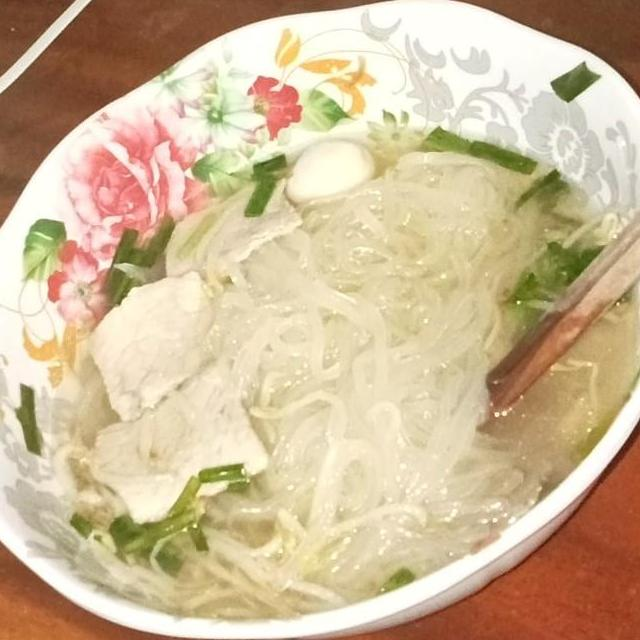banh hu tieu: (221, 150, 539, 552)
hu tieu: (0, 87, 640, 640)
thit heo: (82, 345, 274, 528), (83, 266, 223, 428), (161, 162, 308, 297)
trung: (279, 132, 382, 207)
